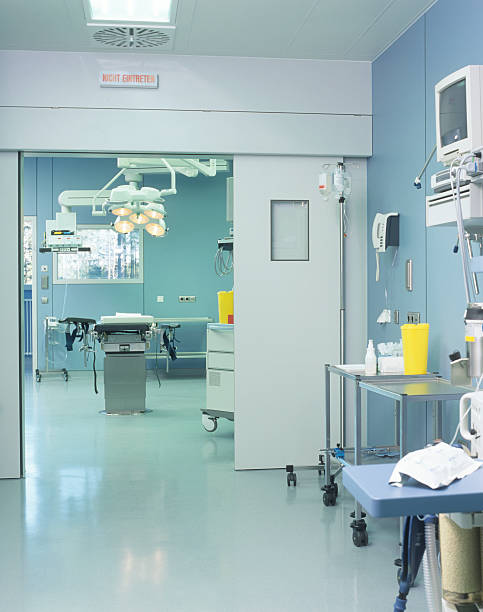bedside_monitor: (425, 65, 483, 152)
breathing_tube: (419, 519, 444, 612)
iv_pole: (315, 153, 368, 306)
medical_drawer: (200, 320, 236, 434)
operating_bed: (70, 311, 172, 416)
surgical_light: (108, 201, 170, 241)
telephone: (372, 210, 403, 265)
utility_cart: (352, 379, 478, 568), (320, 357, 440, 505)
